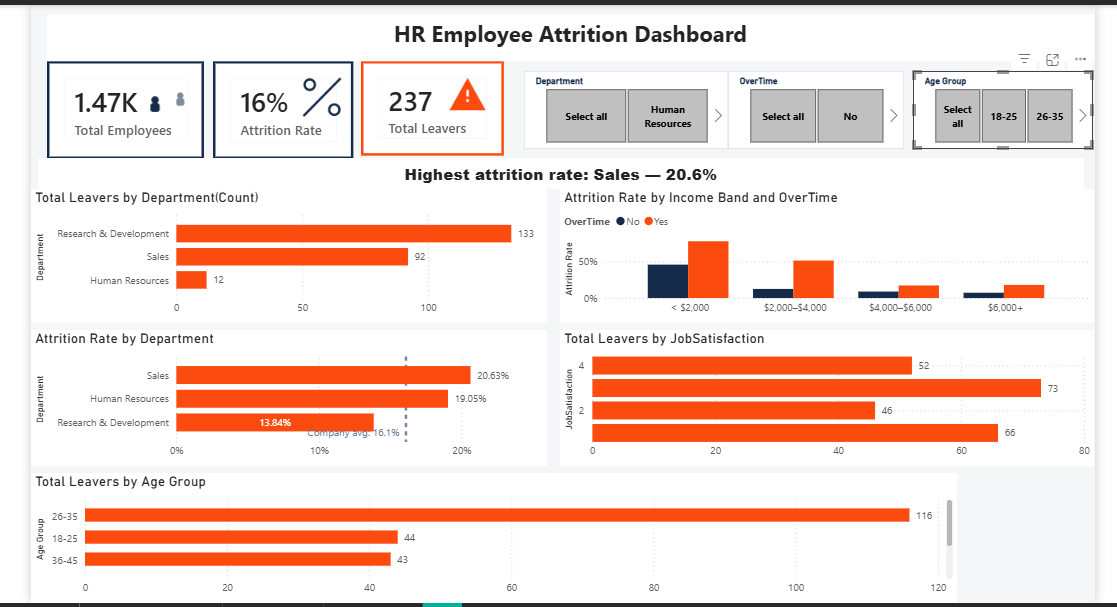

What the dashboard file says about the page in this screenshot:
{"tool":"powerbi","page":{"name":"Dashboard","canvas":[1280,720],"ordinal":1},"visuals":[{"type":"cardVisual","fields":{"Data":["CountNonNull(HRData.EmployeeCount)"]},"box":[19.3,67.4,189,118],"z":0},{"type":"cardVisual","fields":{"Data":["HRData.Attrition Rate"]},"box":[218.8,67.4,169.3,118.4],"z":1000},{"type":"cardVisual","fields":{"Data":["HRData.Total Leavers"]},"box":[397.8,67.4,172,114.2],"z":2000},{"type":"clusteredBarChart","title":"Total Leavers by Department(Count)","fields":{"Category":["HRData.Department"],"Y":["HRData.Total Leavers"]},"box":[0,221.5,621.3,161.3],"z":3000},{"type":"clusteredBarChart","fields":{"Y":["HRData.Total Leavers"],"Category":["HRData.Age Group"]},"box":[0,563.5,1114.9,156.5],"z":4000},{"type":"clusteredBarChart","fields":{"Y":["HRData.Total Leavers"],"Category":["HRData.JobSatisfaction"]},"box":[636.9,391.3,642.9,163.7],"z":5000},{"type":"textbox","box":[19.3,10.4,1260.7,56.6],"z":6000},{"type":"slicer","fields":{"Values":["HRData.Department"]},"box":[593.6,79.5,246.4,93.6],"z":7000},{"type":"clusteredBarChart","title":"Attrition Rate by Department","fields":{"Category":["HRData.Department"],"Y":["HRData.Attrition Rate by Dept"]},"box":[0,391.3,621.3,163.7],"z":8000},{"type":"textbox","box":[8.4,184.2,1259.4,37.3],"z":9000},{"type":"clusteredColumnChart","fields":{"Series":["HRData.OverTime"],"Category":["HRData.Income Band"],"Y":["HRData.Attrition Rate"]},"box":[636.9,221.5,642.9,161.3],"z":10000},{"type":"slicer","fields":{"Values":["HRData.OverTime"]},"box":[839.6,79.8,212,93.6],"z":11000},{"type":"slicer","fields":{"Values":["HRData.Age Group"]},"box":[1062.5,79.8,216.7,93.9],"z":12000},{"type":"image","box":[85.5,20.5,151.7,161.3],"z":13000},{"type":"image","box":[303.4,79.5,93.9,62.6],"z":14000},{"type":"image","box":[493.6,38.5,63.8,134.8],"z":15000}]}

Visuals, with their boxes on the page's 1280x720 design canvas (x1, y1, x2, y2). These are canvas units, not pixel positions in the 1117x607 screenshot, which may show the page scaled, cropped or inside an application window:
cardVisual - CountNonNull(HRData.EmployeeCount): x1=19 y1=67 x2=208 y2=185
cardVisual - HRData.Attrition Rate: x1=219 y1=67 x2=388 y2=186
cardVisual - HRData.Total Leavers: x1=398 y1=67 x2=570 y2=182
"Total Leavers by Department(Count)" clusteredBarChart: x1=0 y1=222 x2=621 y2=383
clusteredBarChart - HRData.Total Leavers x HRData.Age Group: x1=0 y1=564 x2=1115 y2=720
clusteredBarChart - HRData.Total Leavers x HRData.JobSatisfaction: x1=637 y1=391 x2=1280 y2=555
textbox: x1=19 y1=10 x2=1280 y2=67
slicer - HRData.Department: x1=594 y1=80 x2=840 y2=173
"Attrition Rate by Department" clusteredBarChart: x1=0 y1=391 x2=621 y2=555
textbox: x1=8 y1=184 x2=1268 y2=222
clusteredColumnChart - HRData.OverTime x HRData.Income Band: x1=637 y1=222 x2=1280 y2=383
slicer - HRData.OverTime: x1=840 y1=80 x2=1052 y2=173
slicer - HRData.Age Group: x1=1062 y1=80 x2=1279 y2=174
image: x1=86 y1=20 x2=237 y2=182
image: x1=303 y1=80 x2=397 y2=142
image: x1=494 y1=38 x2=557 y2=173
